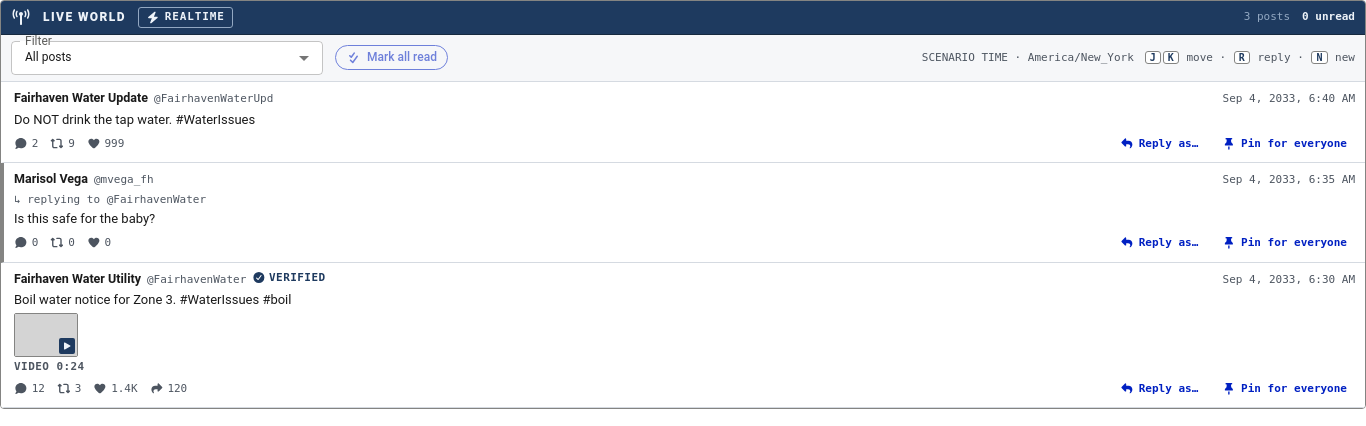
Test: AC4 — filters › filters by persona (the picker is over usePersonas())
This screenshot has width=1366, height=426.
Select "Marisol Vega (@mvega_fh)" in the dropdown with test id "live-world-filter". click: {"x": 167, "y": 58}
box: [11,40,323,75]
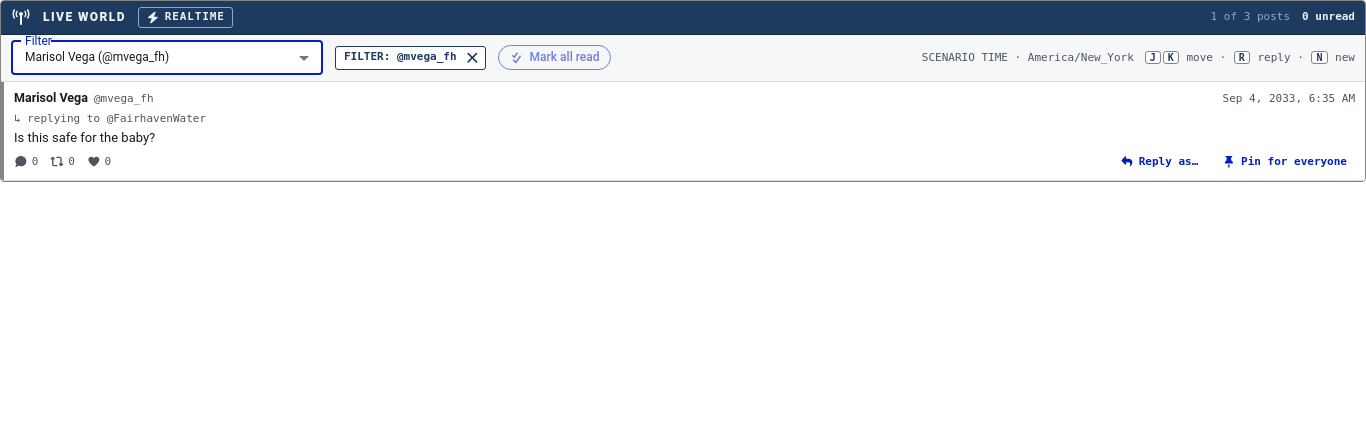
Check: the element with test id "live-world-filter-chip" reads "FILTER: @mvega_fh", box [344,50,457,63]
